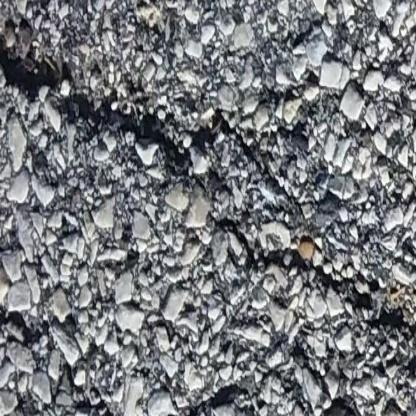Cracks: (0, 24, 416, 343), (0, 285, 357, 416)
